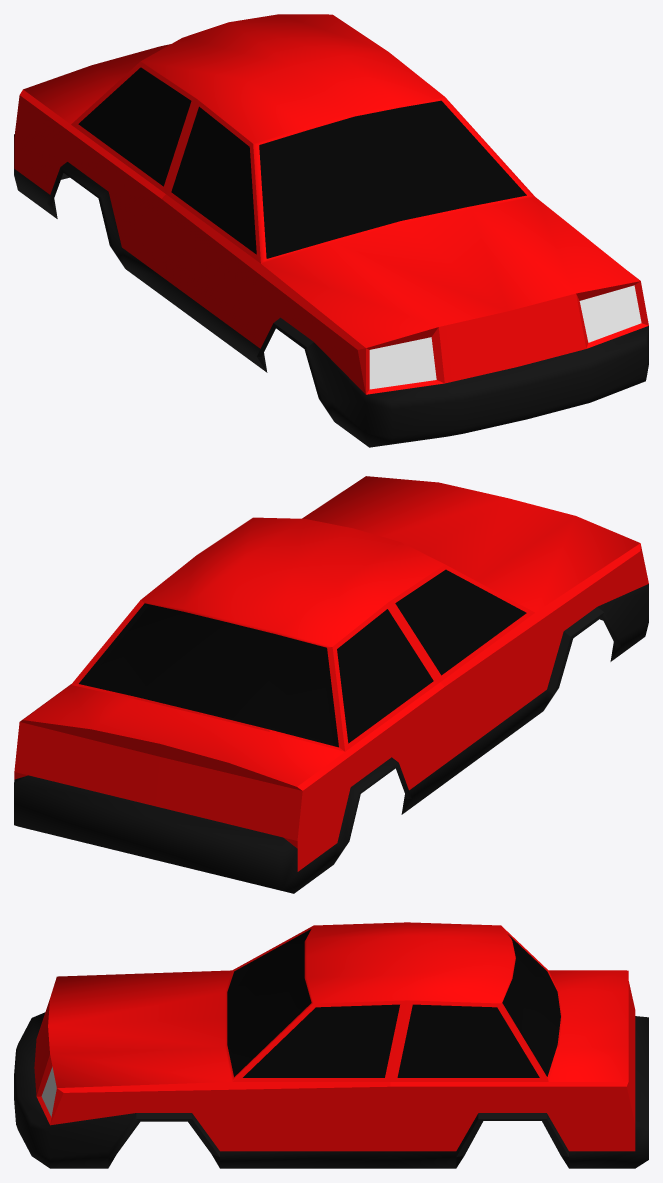
Rendered from CarBody2.obj.
3 views of the same model, one above another, from view 1: azimuth 30°, elevation 25°; view 2: azimuth 150°, elevation 25°; view 3: azimuth 270°, elevation 25° (orthographic). The views are drawn at different scales.
Visible parts, largest first — view 1: CarBody_Car_Cube.003; view 2: CarBody_Car_Cube.003; view 3: CarBody_Car_Cube.003.
Boxes of the visible parts, x1,y1,x2,y2 form: CarBody_Car_Cube.003: (14, 14, 648, 447); CarBody_Car_Cube.003: (14, 476, 648, 893); CarBody_Car_Cube.003: (14, 922, 648, 1168).
Size of the model in its own units: 2.1 by 1.29 by 4.66.
